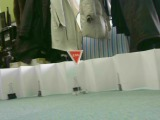stop: (66, 49, 84, 66)
